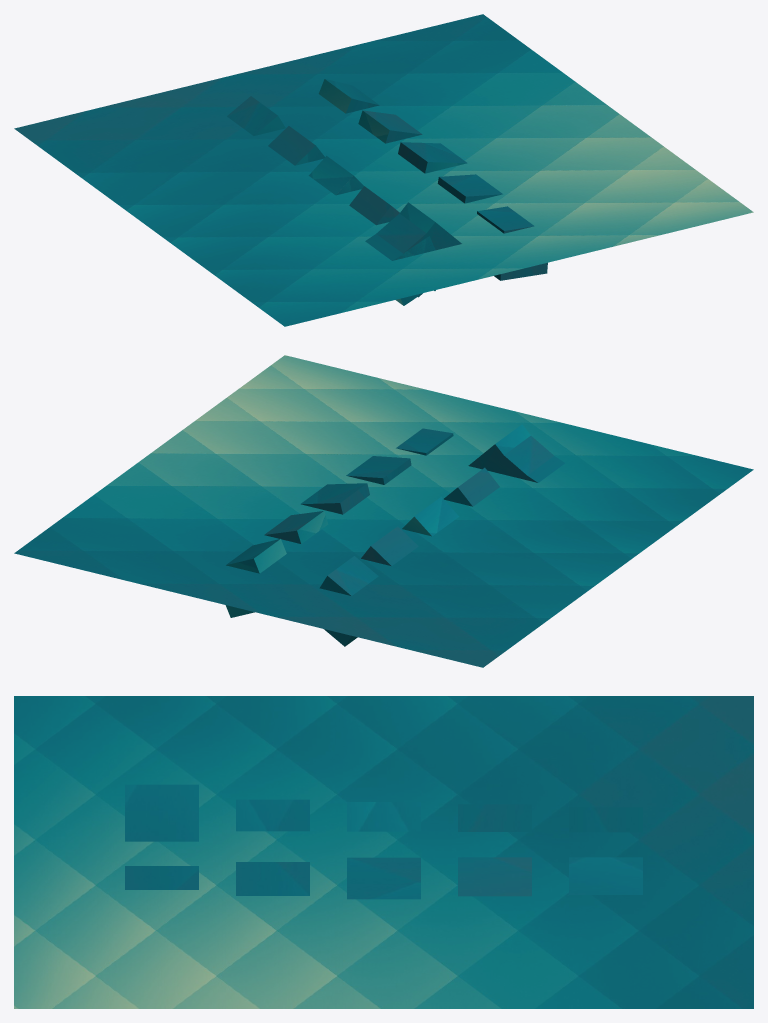
Rendered from desertjump.obj.
3 renders of one model, top to bottom at view 1: azimuth 30°, elevation 25°; view 2: azimuth 150°, elevation 25°; view 3: azimuth 270°, elevation 25°, orthographic. The views are drawn at different scales.
Parts seen in each view (by area): view 1: Plane; view 2: Plane; view 3: Plane.
Part boxes in pixels (bbox=[...]): Plane: bbox=[14, 14, 753, 326]; Plane: bbox=[14, 355, 753, 667]; Plane: bbox=[14, 696, 753, 1008].
Size of the model in its own units: 20 by 3.34 by 20.
